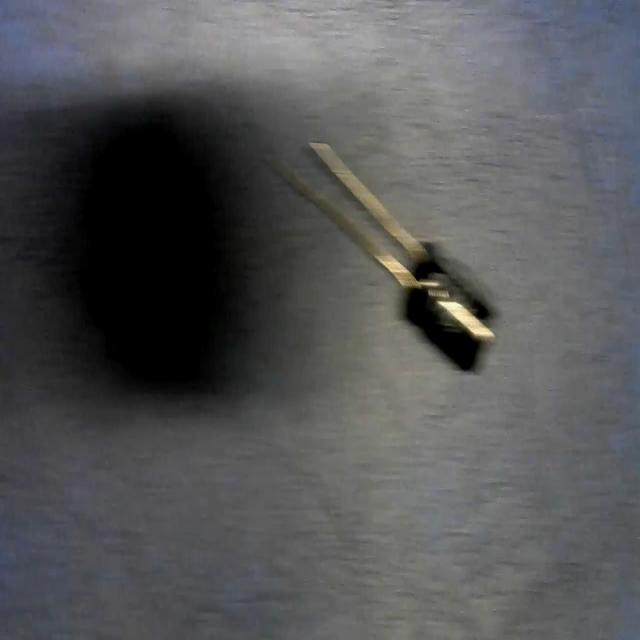capacitor: (268, 146, 488, 362)
